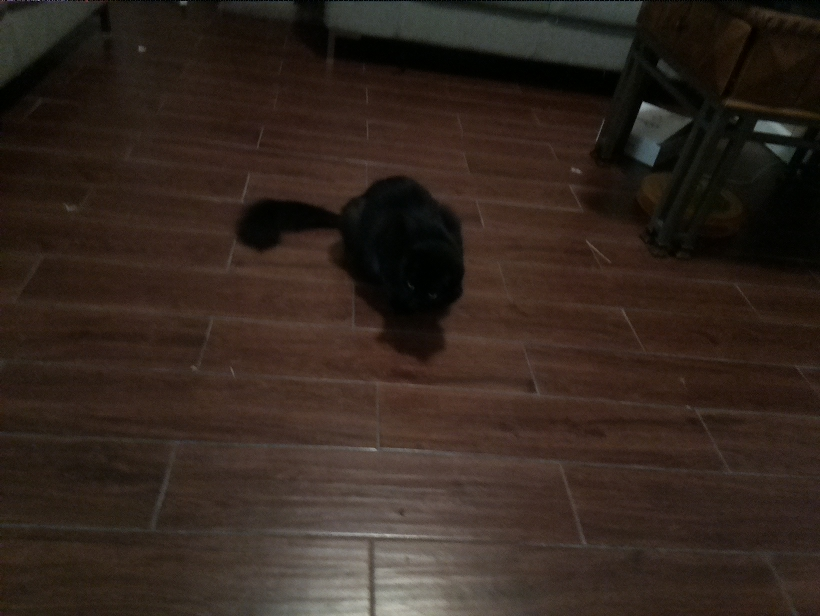cat: (243, 158, 485, 350)
